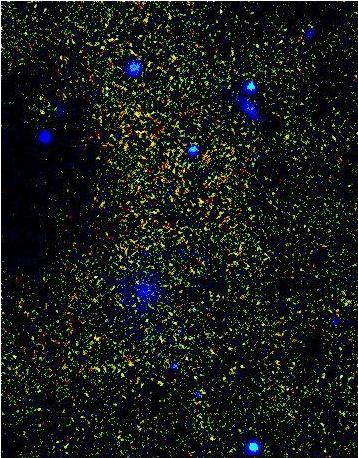star: (271, 121, 301, 151)
